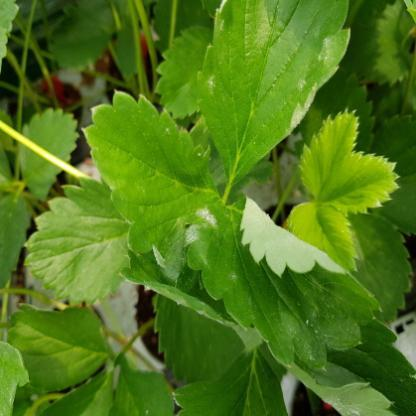Strawberry_Powdery_Mildew_Leaf: (186, 195, 384, 369), (197, 0, 352, 189), (79, 90, 233, 280), (287, 317, 415, 415)
